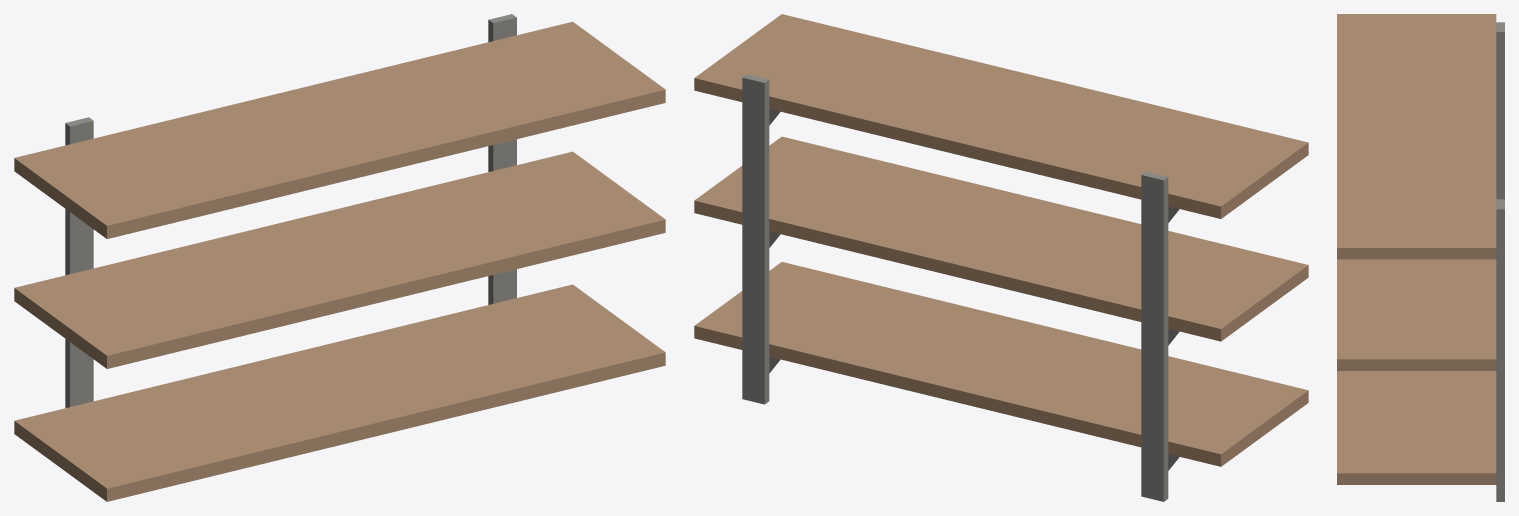
Rendered from ShelfComplete_01.fbx.
3 views of the same model, side by side, from view 1: azimuth 30°, elevation 25°; view 2: azimuth 150°, elevation 25°; view 3: azimuth 270°, elevation 25° (orthographic). The views are drawn at different scales.
Parts seen in each view (by area): view 1: WallMountedShelf; view 2: WallMountedShelf; view 3: WallMountedShelf.
Boxes of the visible parts, bbox=[...] form: WallMountedShelf: bbox=[14, 14, 665, 501]; WallMountedShelf: bbox=[694, 14, 1308, 501]; WallMountedShelf: bbox=[1337, 14, 1504, 501].
Size of the model in its own units: 1.32 by 0.77 by 0.4.
